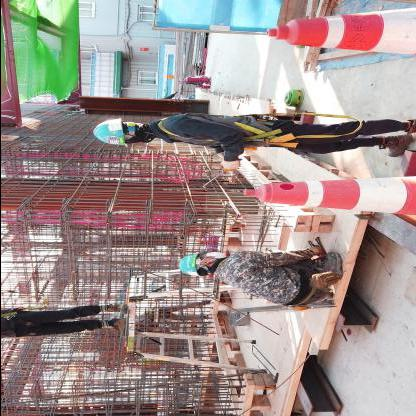safety-shoe: (378, 131, 413, 159), (316, 254, 347, 278), (110, 316, 132, 338), (108, 304, 130, 314)
